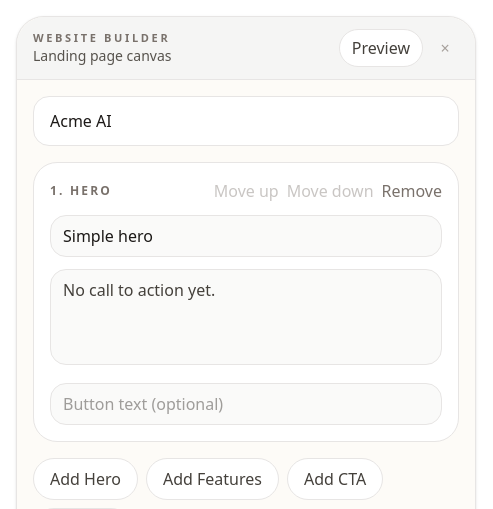
Test: WebsiteBuilder › does not render a preview button when buttonText is missing
Step 1. Click the button "Preview" → (381, 48), box [339,29,423,67]
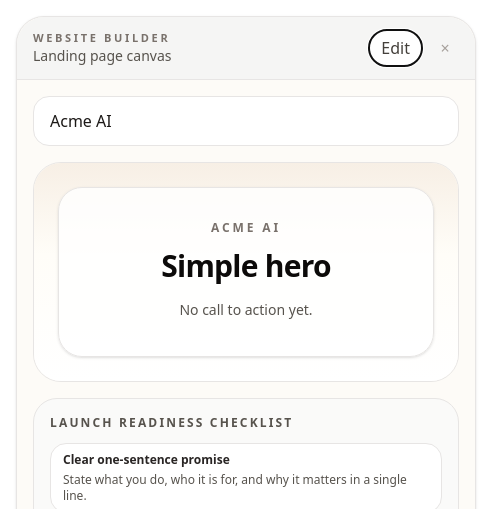
Expected: the heading "Simple hero" is shown, [161,245,331,286]
